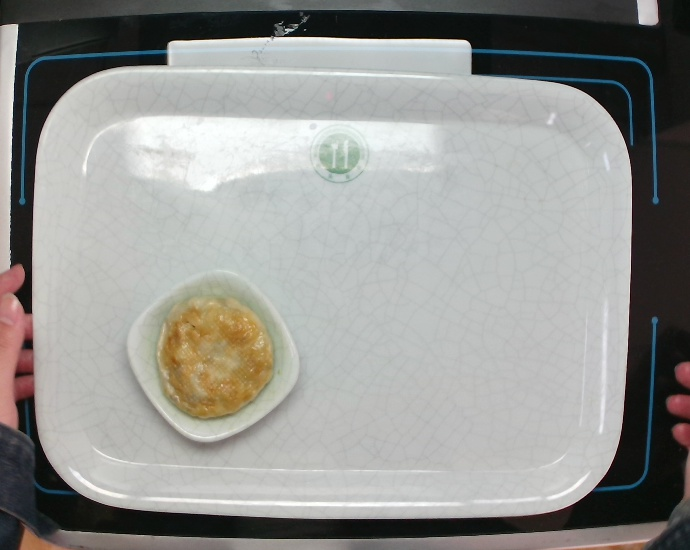JYsf-Si_Fang_Die: (122, 267, 304, 448)
